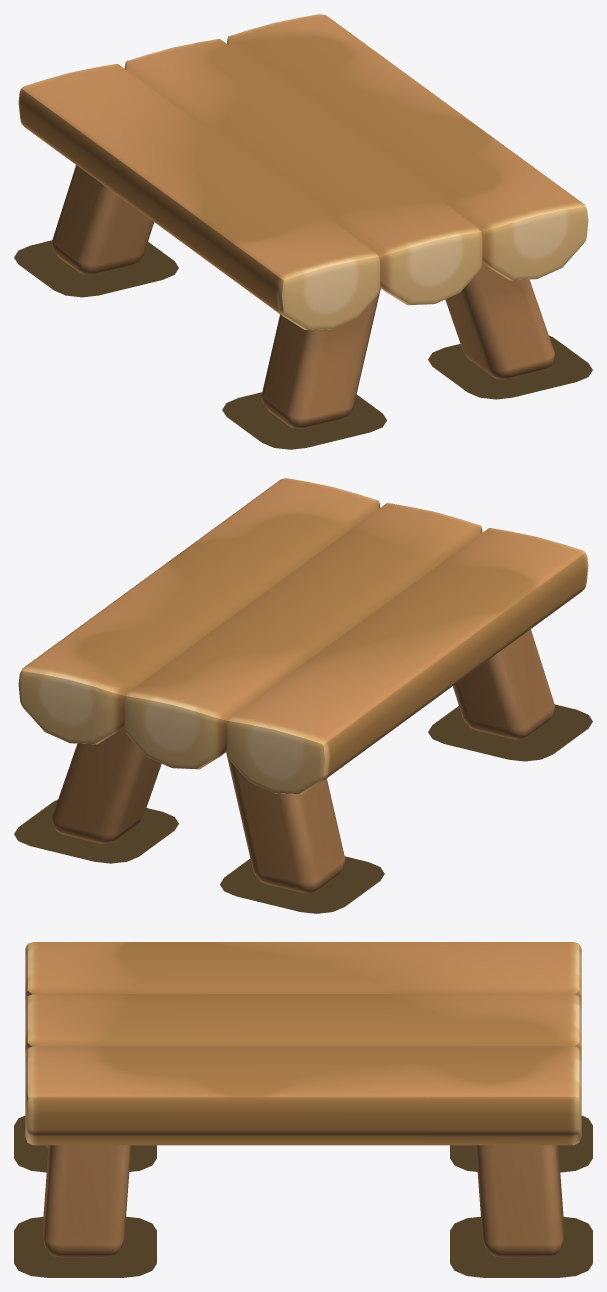
The model's file is meat_table.fbx.
The picture shows the model from 3 angles, top to bottom: view 1: azimuth 30°, elevation 25°; view 2: azimuth 150°, elevation 25°; view 3: azimuth 270°, elevation 25°; orthographic projection. The views are drawn at different scales.
Parts seen in each view (by area): view 1: polySurface13, polySurface11; view 2: polySurface13, polySurface11; view 3: polySurface13, polySurface11.
Boxes of the visible parts, x1=… form: polySurface13: x1=18, y1=14, x2=588, y2=429; polySurface11: x1=14, y1=240, x2=592, y2=449; polySurface13: x1=18, y1=478, x2=588, y2=893; polySurface11: x1=14, y1=704, x2=592, y2=913; polySurface13: x1=25, y1=942, x2=581, y2=1257; polySurface11: x1=14, y1=1115, x2=592, y2=1277.
Bounding box in the file's own units: 213 × 107 × 312.
